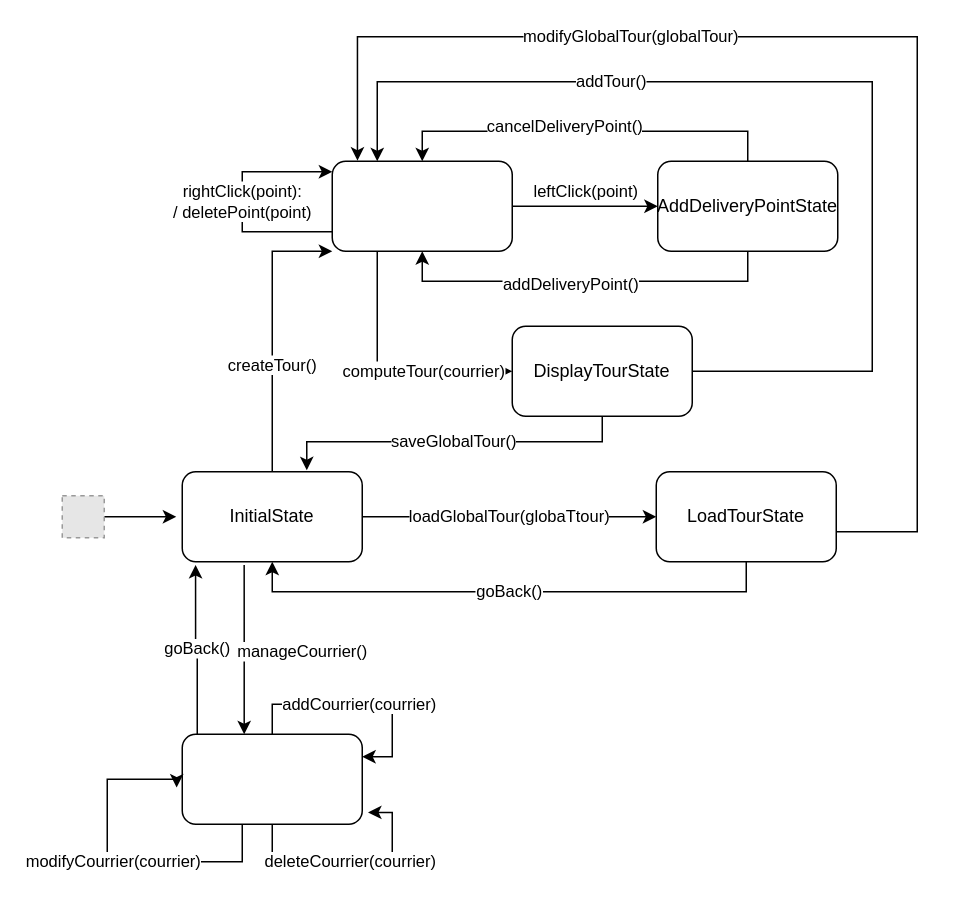
The diagram is 956 pixels wide and 900 high, and some of its shapes have lost their labels. Grey dashed boxes stand in for pictures. Each missing label, with the centre of its shape:
"CreateTourState" belongs at (421,205).
"ManageCourrierState" belongs at (271,778).
